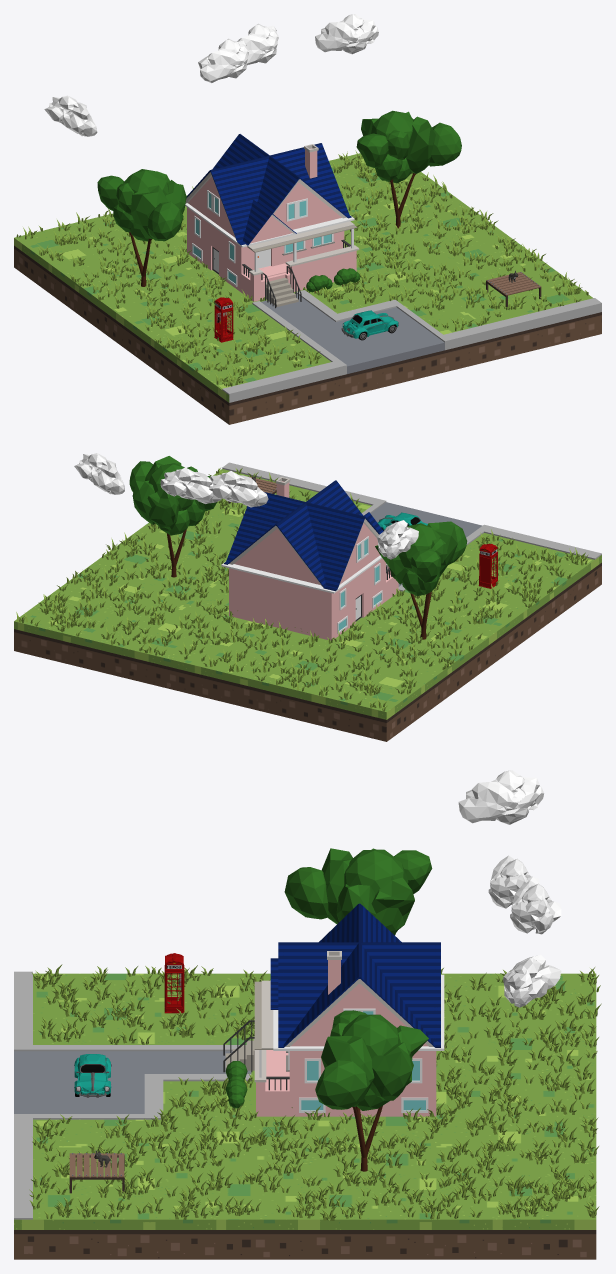
3 views of the same model, one above another, from view 1: azimuth 30°, elevation 25°; view 2: azimuth 150°, elevation 25°; view 3: azimuth 270°, elevation 25° (orthographic). The views are drawn at different scales.
Visible parts, largest first — view 1: Cube.006, Cube.313, Circle.012_Grass_0.192, Cube.007, tree, tree.001, VEHICLES_VOLKSWAGEN, Cube.009, OBJRANDOM_PHONEBOOTH; view 2: Cube.006, Cube.313, Circle.012_Grass_0.192, Cube.007, tree.001, tree, OBJRANDOM_PHONEBOOTH, VEHICLES_VOLKSWAGEN; view 3: Cube.006, Circle.012_Grass_0.192, Cube.313, tree, Cube.007, tree.001, VEHICLES_VOLKSWAGEN, Cube.009, OBJRANDOM_PHONEBOOTH.
Part boxes in pixels (bbox=[...]): Cube.006: bbox=[14, 153, 601, 424]; Cube.313: bbox=[185, 134, 359, 308]; Circle.012_Grass_0.192: bbox=[16, 150, 588, 386]; Cube.007: bbox=[44, 14, 378, 136]; tree: bbox=[356, 110, 461, 228]; tree.001: bbox=[97, 169, 186, 286]; VEHICLES_VOLKSWAGEN: bbox=[341, 310, 398, 340]; Cube.009: bbox=[486, 272, 541, 306]; OBJRANDOM_PHONEBOOTH: bbox=[214, 297, 233, 342]; Cube.006: bbox=[14, 462, 601, 741]; Cube.313: bbox=[221, 477, 398, 640]; Circle.012_Grass_0.192: bbox=[16, 468, 588, 711]; Cube.007: bbox=[74, 453, 418, 559]; tree.001: bbox=[375, 521, 467, 639]; tree: bbox=[129, 456, 216, 577]; OBJRANDOM_PHONEBOOTH: bbox=[478, 543, 498, 588]; VEHICLES_VOLKSWAGEN: bbox=[377, 512, 427, 530]; Cube.006: bbox=[14, 971, 596, 1259]; Circle.012_Grass_0.192: bbox=[29, 964, 601, 1220]; Cube.313: bbox=[223, 903, 444, 1116]; tree: bbox=[315, 1010, 428, 1171]; Cube.007: bbox=[458, 770, 561, 1007]; tree.001: bbox=[284, 848, 432, 935]; VEHICLES_VOLKSWAGEN: bbox=[74, 1054, 111, 1097]; Cube.009: bbox=[69, 1153, 124, 1193]; OBJRANDOM_PHONEBOOTH: bbox=[164, 953, 184, 1013].
Size of the model in its own units: 4071 by 2328 by 4040.
43 materials, 3 textured.
